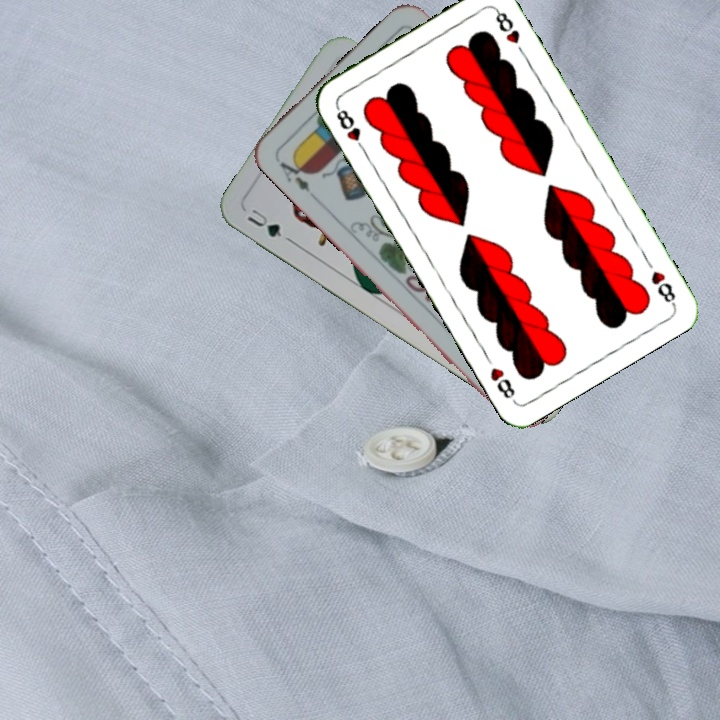EA: (273, 153, 314, 195)
GU: (243, 204, 285, 240)
H8: (331, 102, 369, 155), (647, 266, 678, 308)
